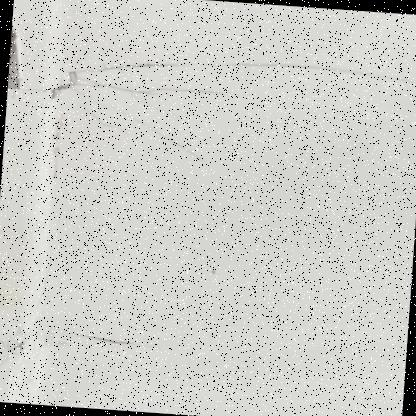Crack: (5, 8, 415, 186), (0, 241, 166, 412)
